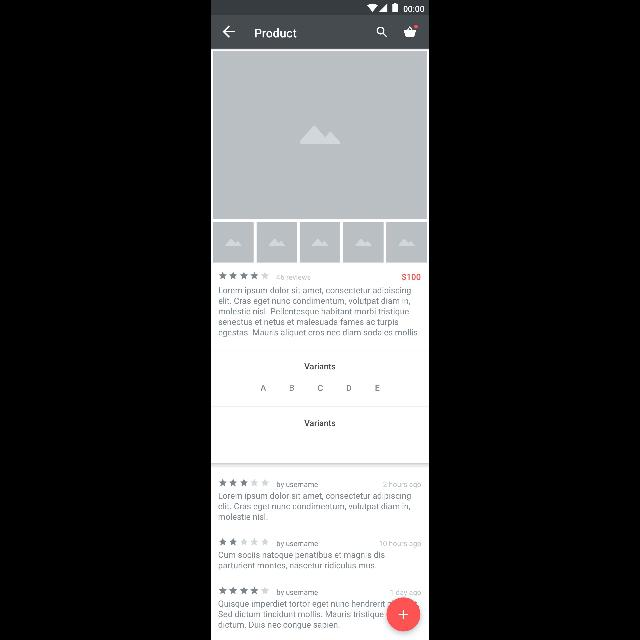icon: (387, 597, 421, 631), (218, 272, 270, 280), (218, 538, 270, 546), (218, 479, 270, 487), (219, 586, 269, 594), (404, 25, 418, 37), (223, 26, 235, 38), (377, 27, 388, 38)
image: (214, 51, 426, 219), (214, 222, 254, 262), (257, 222, 297, 262), (300, 222, 340, 262), (344, 222, 384, 262), (387, 222, 427, 262)
text: (218, 287, 420, 337), (218, 492, 412, 520), (217, 600, 385, 630), (218, 552, 386, 570), (255, 28, 297, 38), (380, 540, 422, 548), (278, 540, 318, 548), (383, 481, 421, 489), (304, 362, 336, 370), (278, 482, 318, 488), (278, 590, 318, 596), (277, 274, 311, 280), (304, 420, 336, 426), (391, 590, 422, 596), (402, 273, 422, 281), (318, 385, 324, 391), (346, 385, 352, 391), (262, 385, 266, 391), (290, 385, 294, 391), (376, 385, 380, 391)
uppertaskbar: (211, 1, 429, 16)
